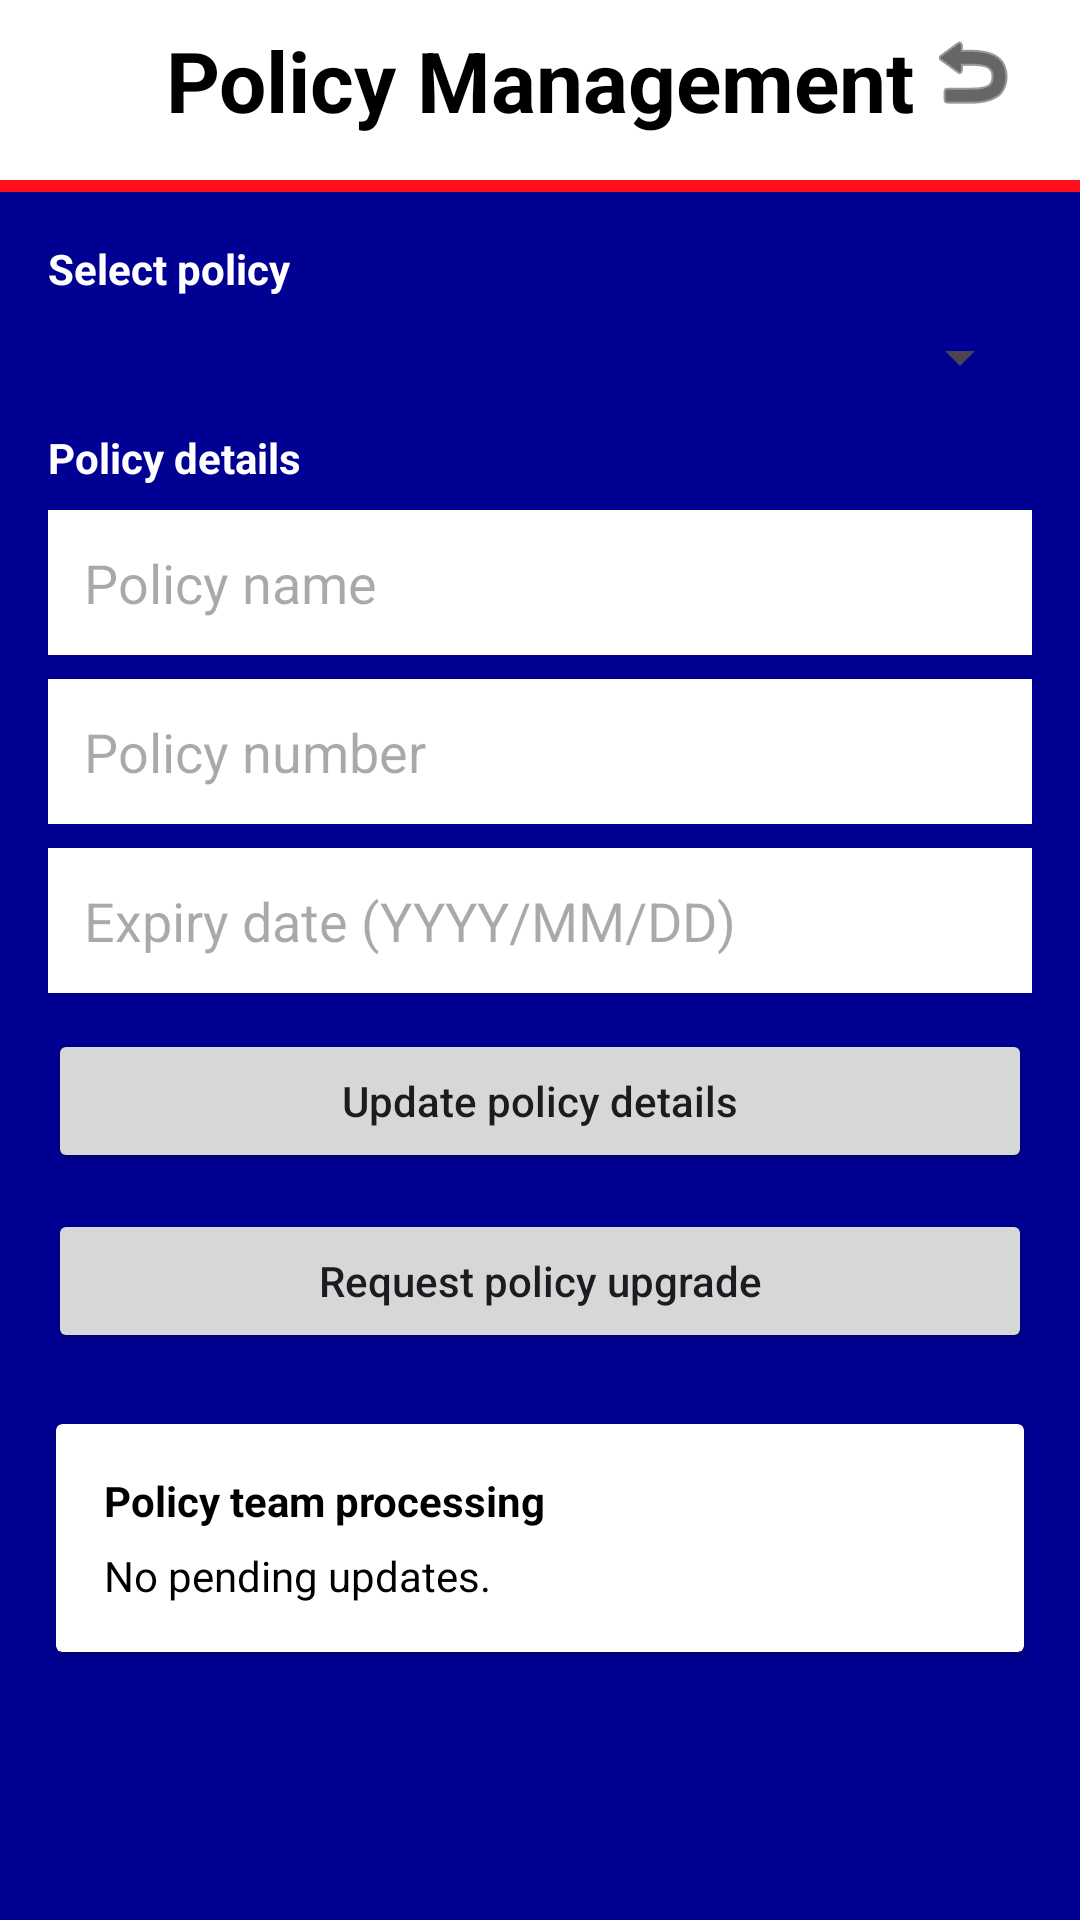

Screen size 1080px x 1920px. Icon name, then its center in pixels as point (x, y):
Return: point (973, 72)
